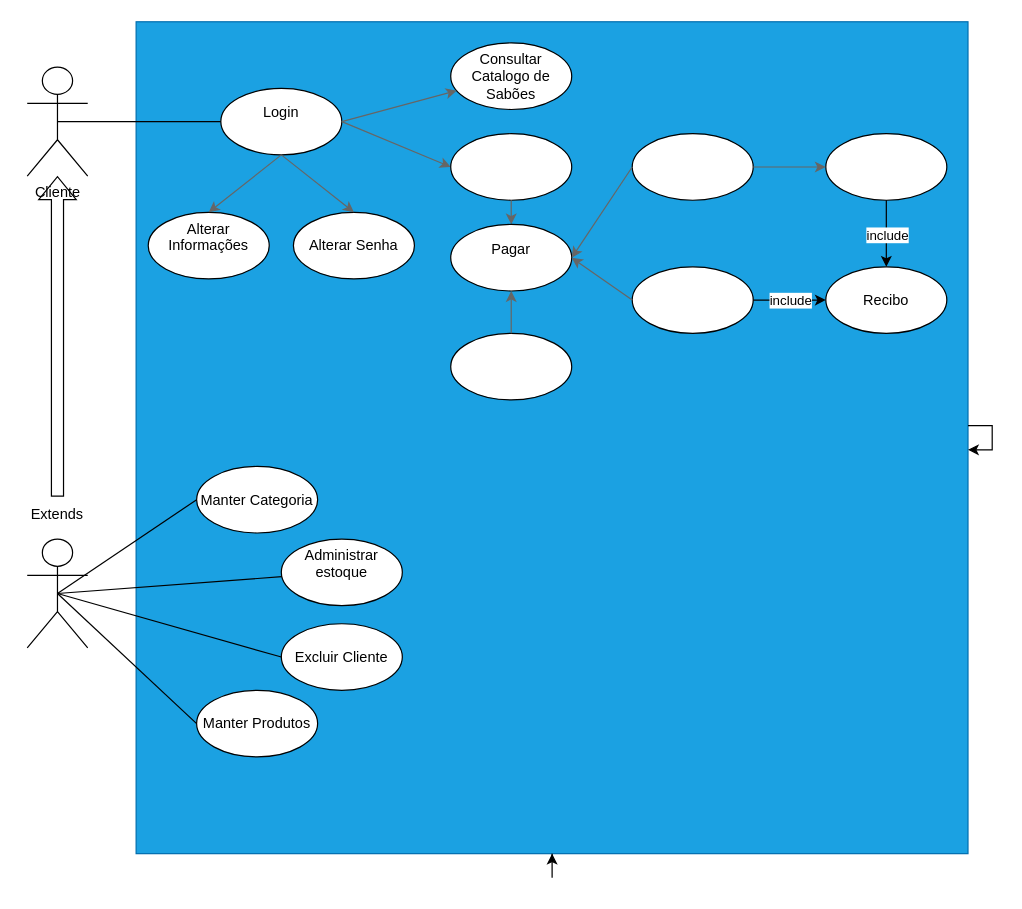
Image size: 1022x909. Some labels were removed from this diagram. The shapes that lost their labels are listed below. From the top down, each one's centre as x and y in pixels, then its label:
At (511,166): "Adicionar ao Carrinho".
At (692,166): "À vista".
At (886,166): "Desconto".
At (692,299): "Parcelado".
At (511,366): "Cancelar".
At (57,593): "Admin".
